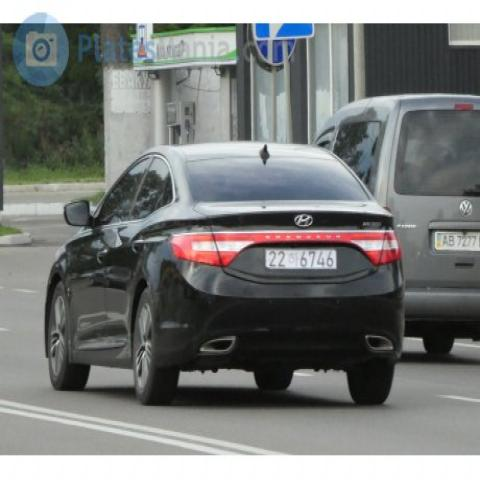LP: (263, 239, 345, 281)
